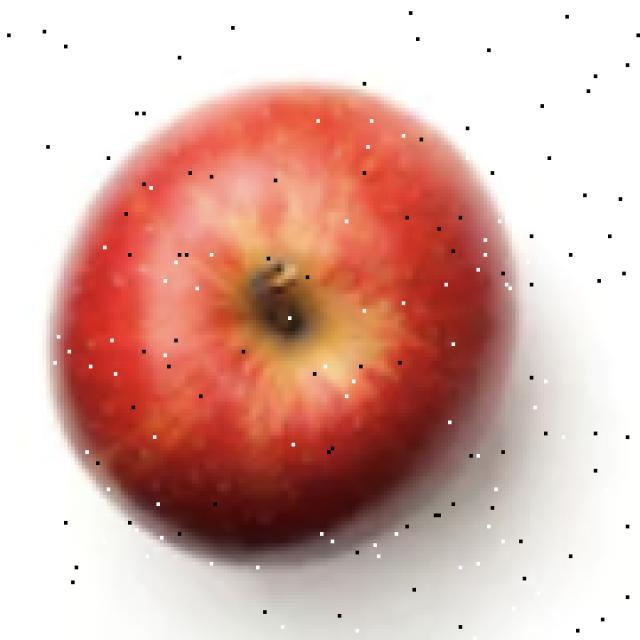Fresh Apple: (53, 92, 512, 530)
